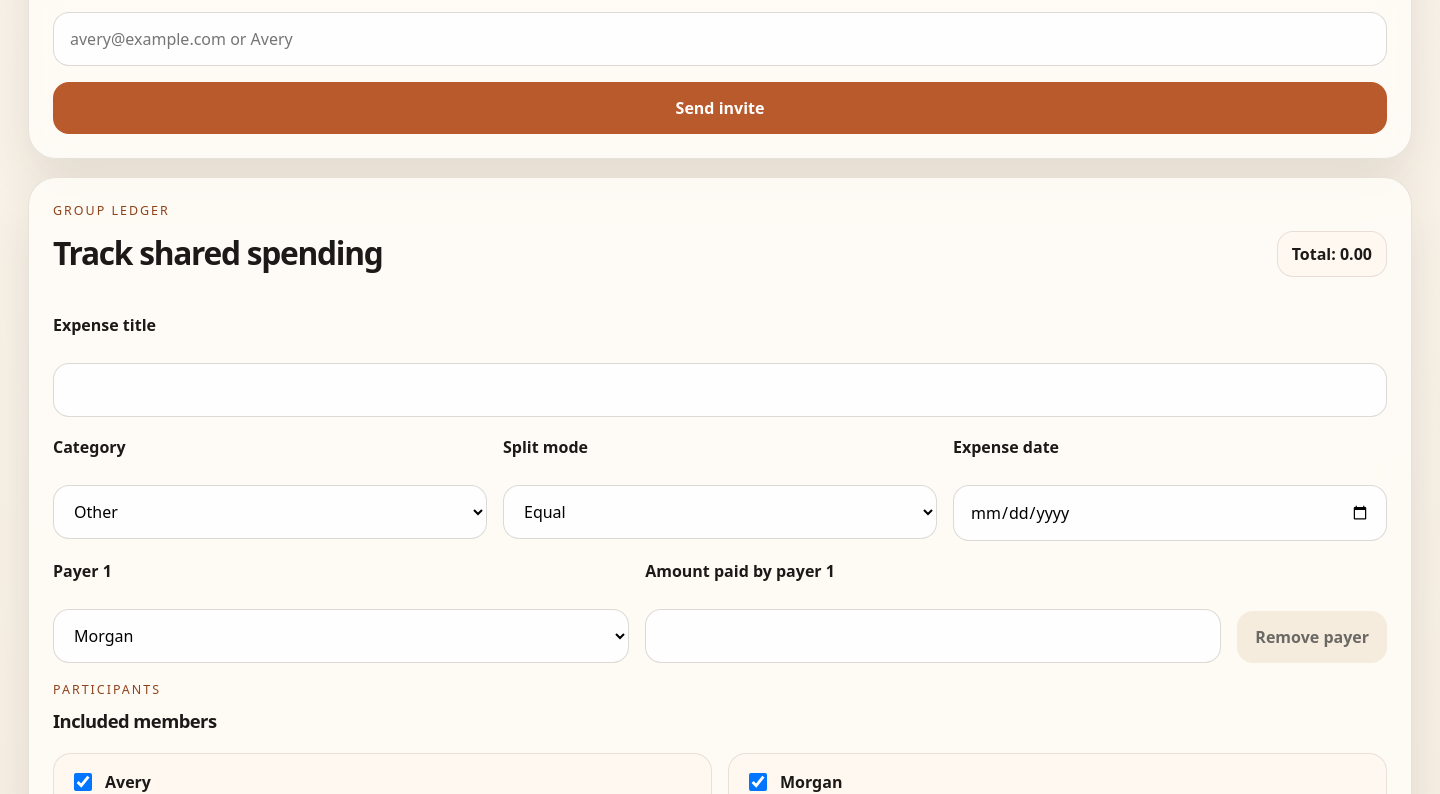
group expenses › shows inline error text when saving an expense fails
(page scrolled)
Type "Dinner" into the field labelled "Expense title" at (720, 390), box [53,363,1387,417]
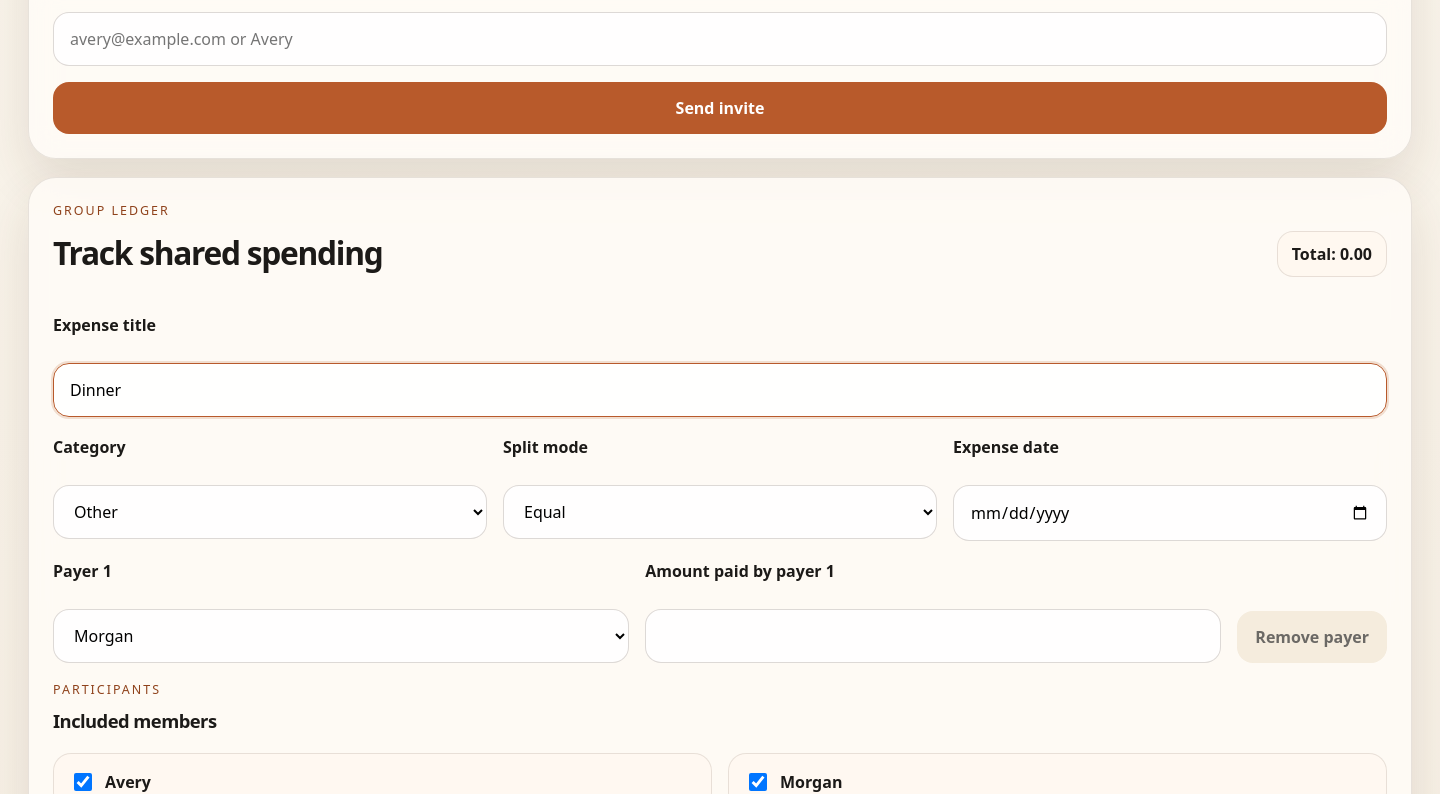
Type "2026-04-09" into the date field labelled "Expense date" at (1170, 513), box [953,485,1387,541]
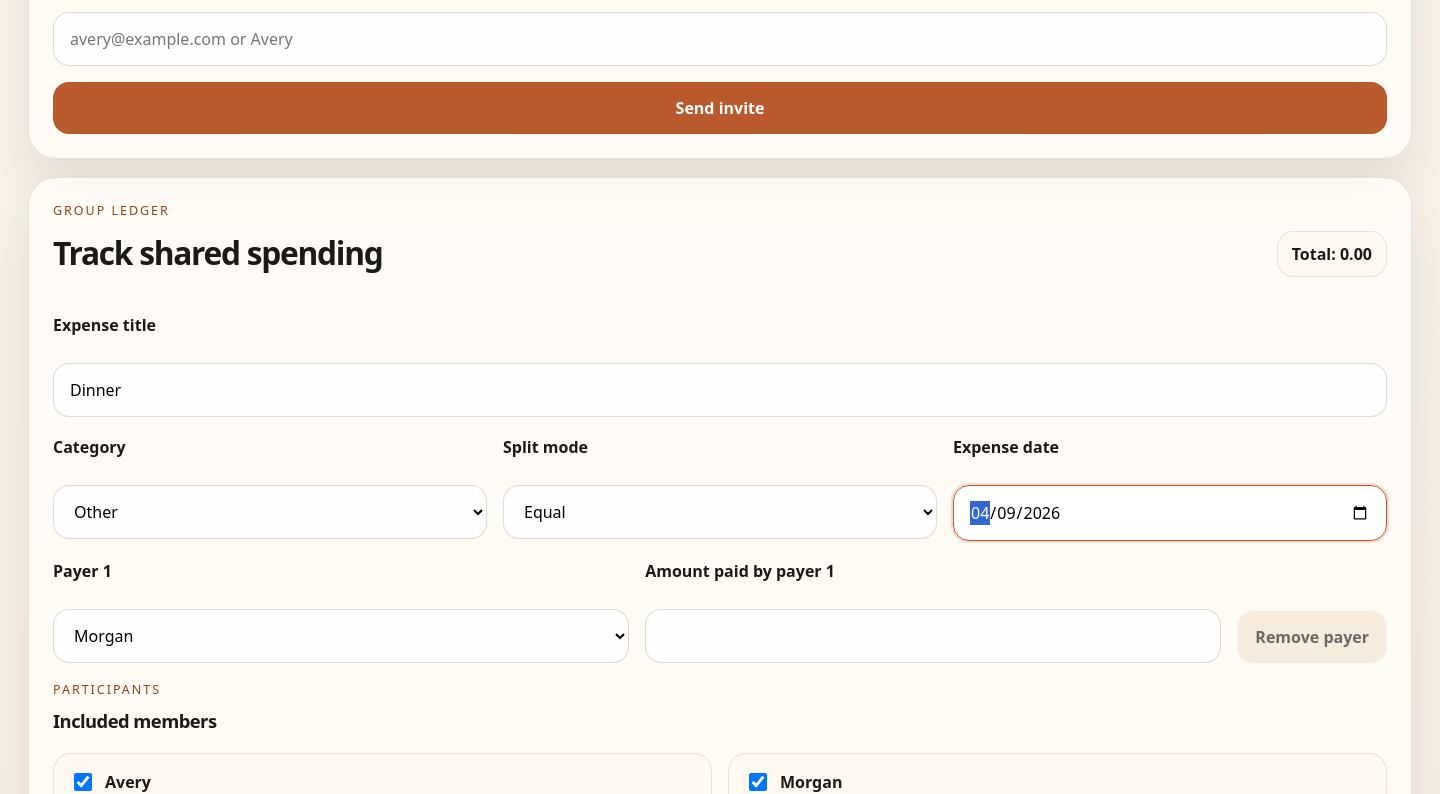
Type "10.00" into the field labelled "Amount paid by payer 1" at (933, 636), box [645,609,1221,663]
(page scrolled)
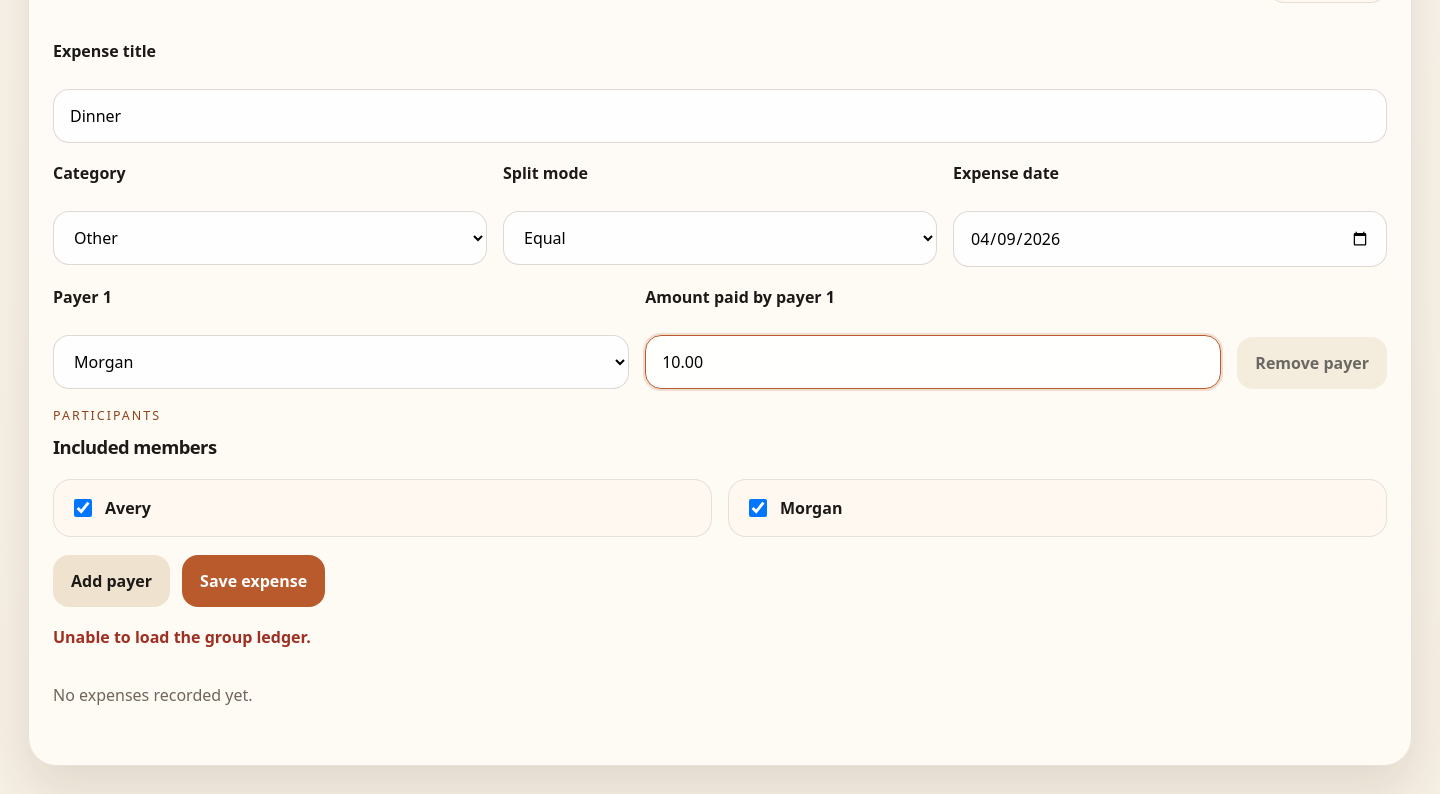
Click the button "Save expense" at (254, 581), box [182,555,325,607]
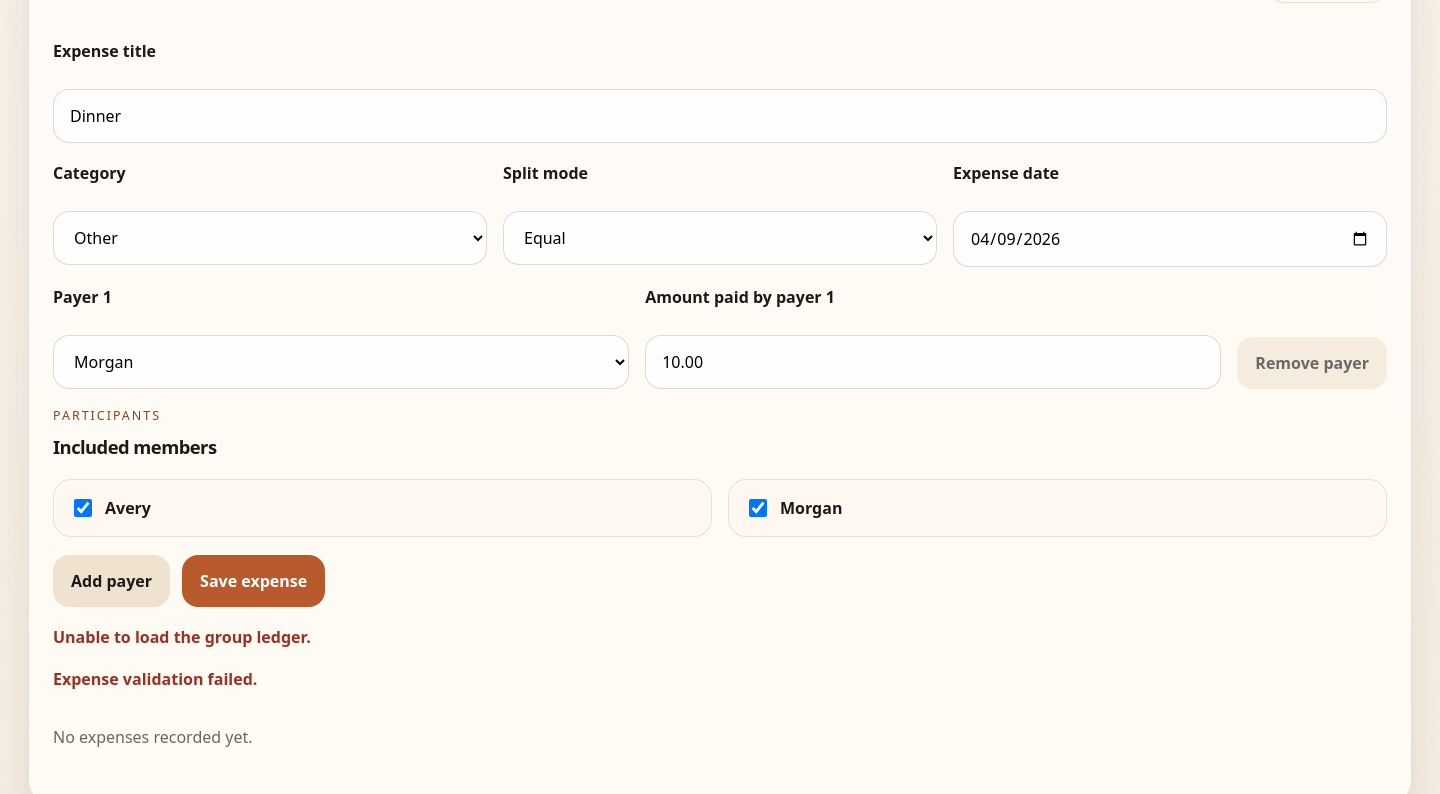
Check: the text "Expense validation failed." is shown, box [53,668,257,690]
